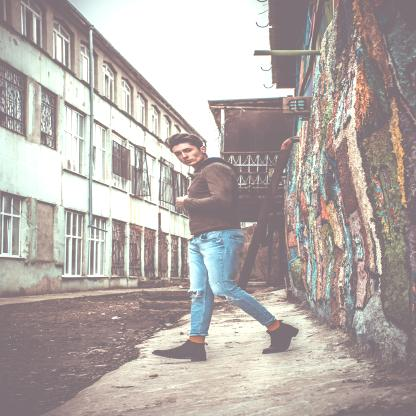jean: (146, 130, 308, 364)
